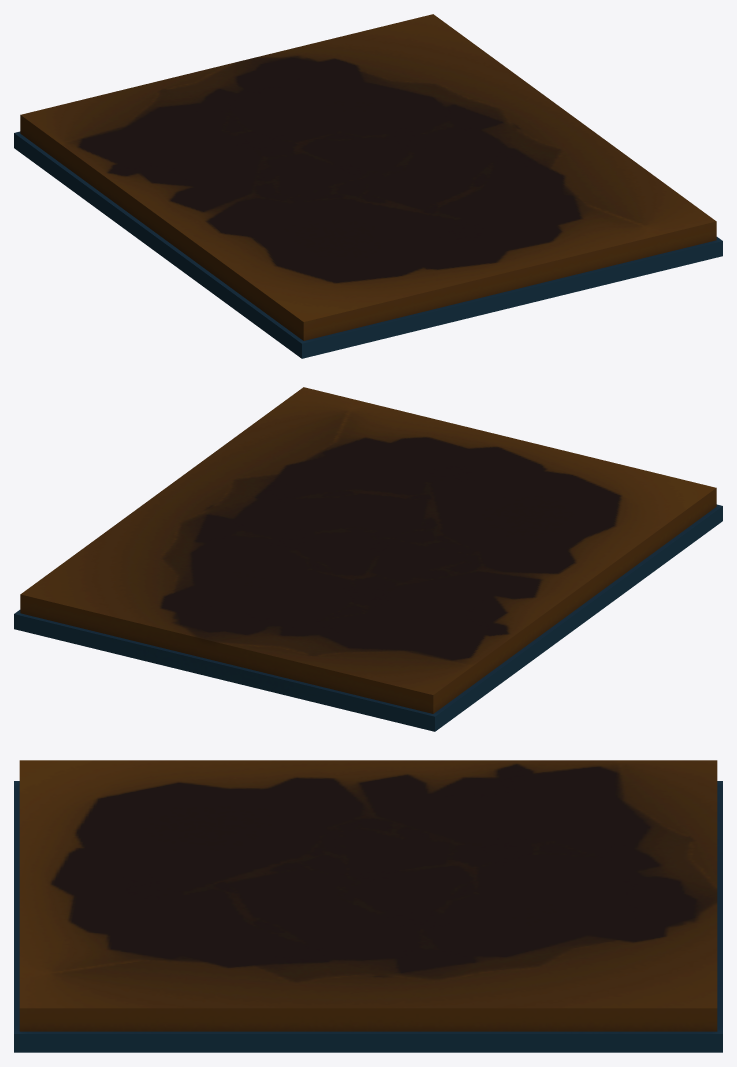
File: Ground_02.FBX
3 renders of one model, top to bottom at view 1: azimuth 30°, elevation 25°; view 2: azimuth 150°, elevation 25°; view 3: azimuth 270°, elevation 25°, orthographic. The views are drawn at different scales.
Parts seen in each view (by area): view 1: Ground_02; view 2: Ground_02; view 3: Ground_02.
Part boxes in pixels (x1=…): Ground_02: x1=14, y1=14, x2=722, y2=358; Ground_02: x1=14, y1=387, x2=722, y2=731; Ground_02: x1=14, y1=760, x2=722, y2=1052.
Size of the model in its own units: 21.94 by 1.69 by 25.99.
